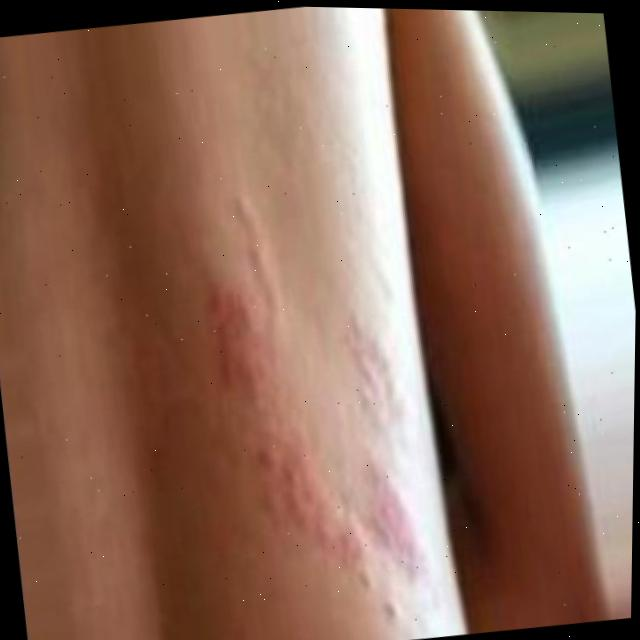Shingles: (171, 172, 438, 617)
